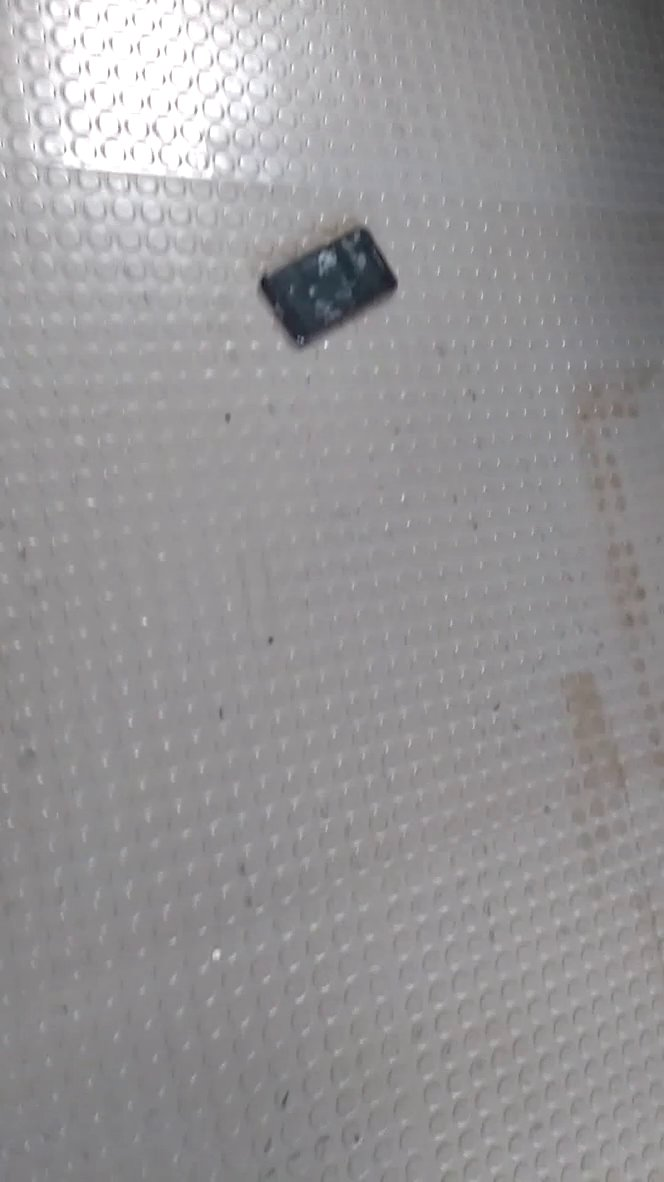phone: (247, 214, 408, 355)
